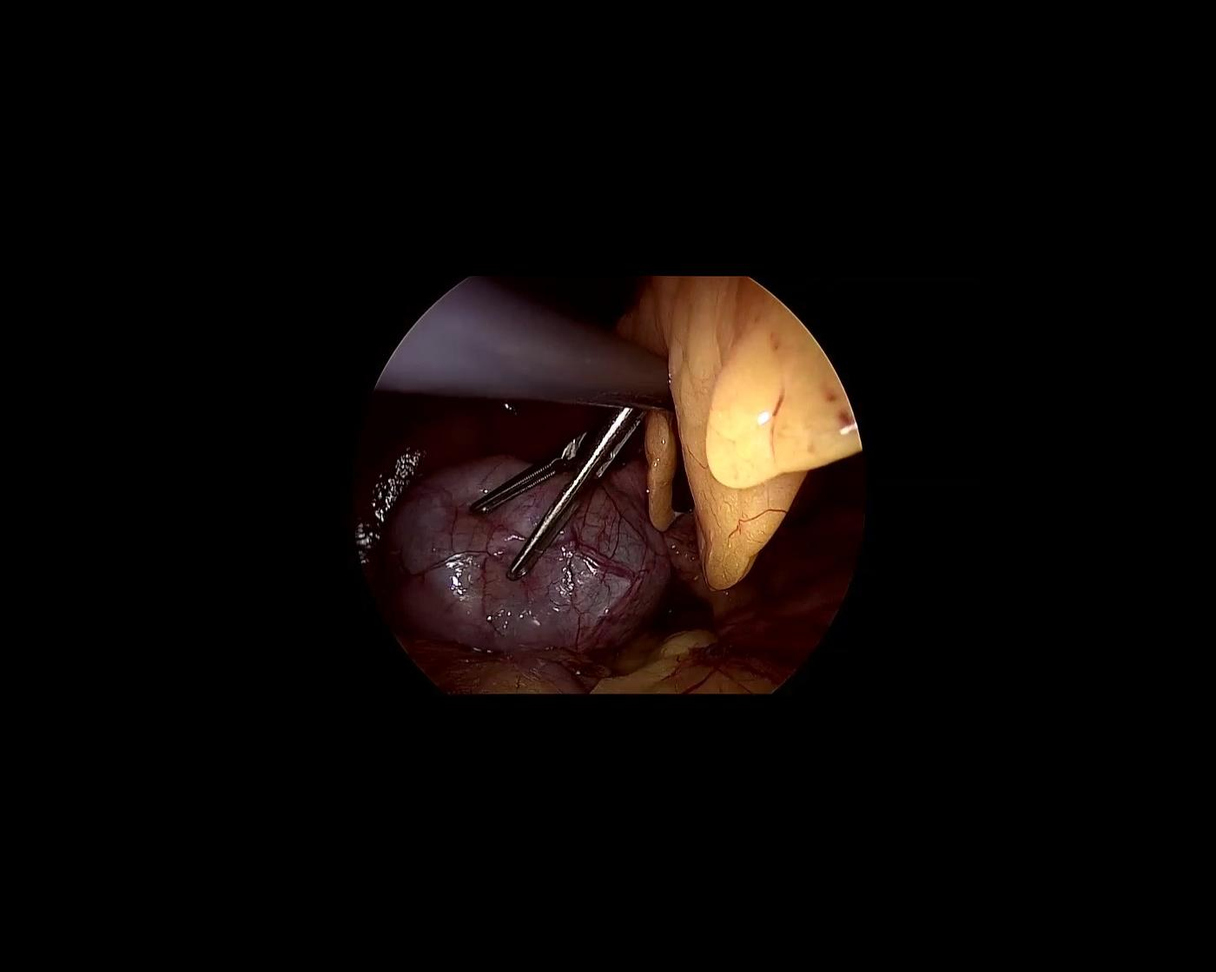Forceps: (446, 364, 646, 588), (373, 273, 677, 415)
Gallbladder: (389, 457, 673, 653)
